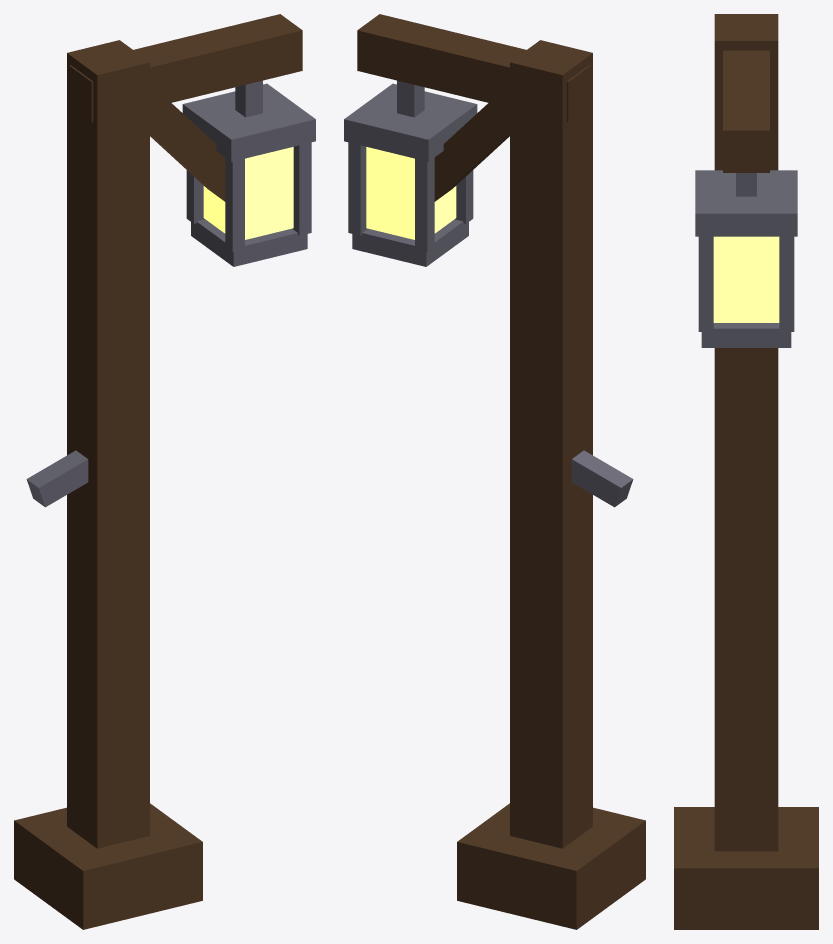
Rendered from lantern_post_t1.glb.
3 renders of one model, left to right at view 1: azimuth 30°, elevation 25°; view 2: azimuth 150°, elevation 25°; view 3: azimuth 270°, elevation 25°, orthographic. The views are drawn at different scales.
Parts seen in each view (by area): view 1: post, base, bracket_arm, lantern_top, lantern_glass, brace, lantern_base, fuel_hook_peg, lantern_bar_3, lantern_bar_1, lantern_hook, lantern_bar_2; view 2: post, base, bracket_arm, lantern_top, lantern_glass, brace, lantern_base, fuel_hook_peg, lantern_bar_2, lantern_bar_0, lantern_hook, lantern_bar_3; view 3: post, base, lantern_top, lantern_glass, bracket_arm, lantern_base, lantern_bar_0, lantern_bar_1, lantern_hook.
Boxes of the visible parts, x1,y1,x2,y2 form: post: (67,40,149,848); base: (14,803,202,929); bracket_arm: (69,14,302,122); lantern_top: (182,83,315,161); lantern_glass: (203,147,293,239); brace: (150,103,225,201); lantern_base: (191,219,307,266); fuel_hook_peg: (26,450,88,507); lantern_bar_3: (225,158,244,252); lantern_bar_1: (292,142,311,235); lantern_hook: (235,80,262,117); lantern_bar_2: (186,170,204,223); post: (510,40,592,848); base: (457,803,645,929); bracket_arm: (357,14,590,122); lantern_top: (344,83,477,161); lantern_glass: (366,147,456,239); brace: (434,103,509,201); lantern_base: (352,219,468,266); fuel_hook_peg: (571,450,633,507); lantern_bar_2: (415,158,434,252); lantern_bar_0: (348,142,367,235); lantern_hook: (397,80,424,117); lantern_bar_3: (455,170,473,223); post: (714,14,778,851); base: (674,807,818,929); lantern_top: (695,170,797,236); lantern_glass: (713,236,779,322); bracket_arm: (723,50,769,172); lantern_base: (701,323,791,347); lantern_bar_0: (779,236,794,331); lantern_bar_1: (698,236,713,331); lantern_hook: (736,173,756,196).
Size of what is drawn, in the model's own units: 0.7354 by 2.26 by 0.34.
